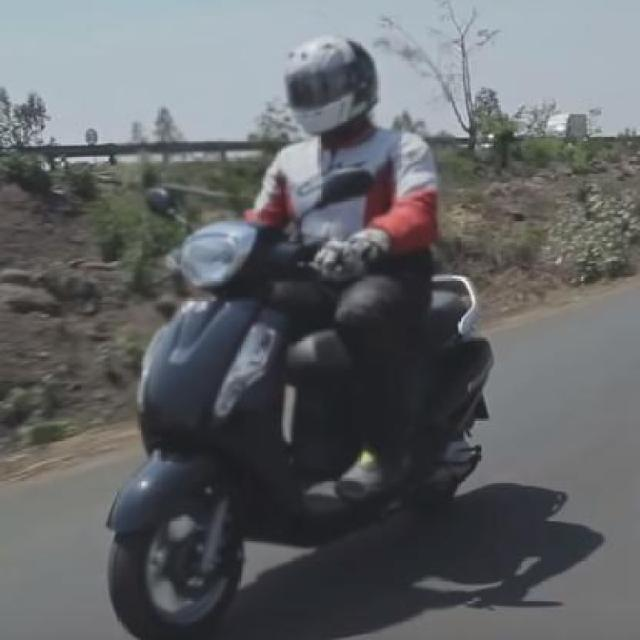helmet: (276, 37, 390, 138)
motorcycle: (93, 31, 502, 640)
